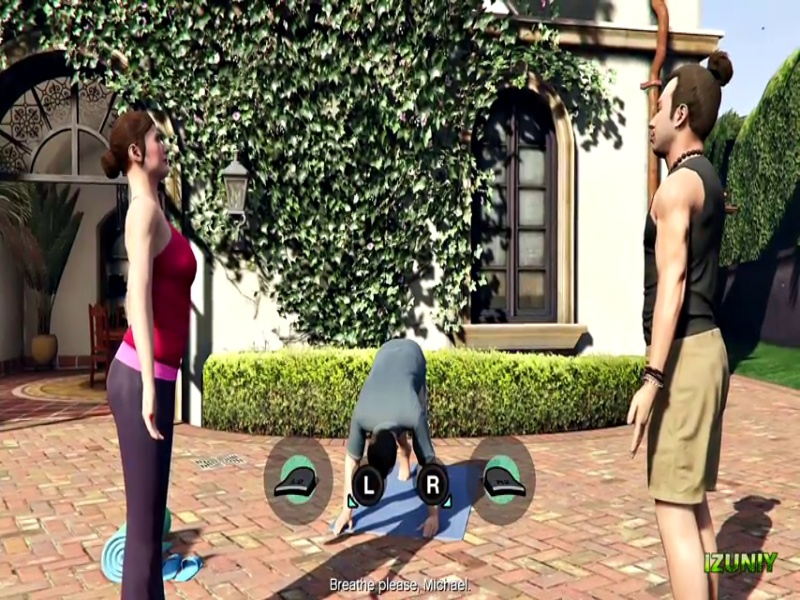licenseplate: (197, 94, 600, 116)
